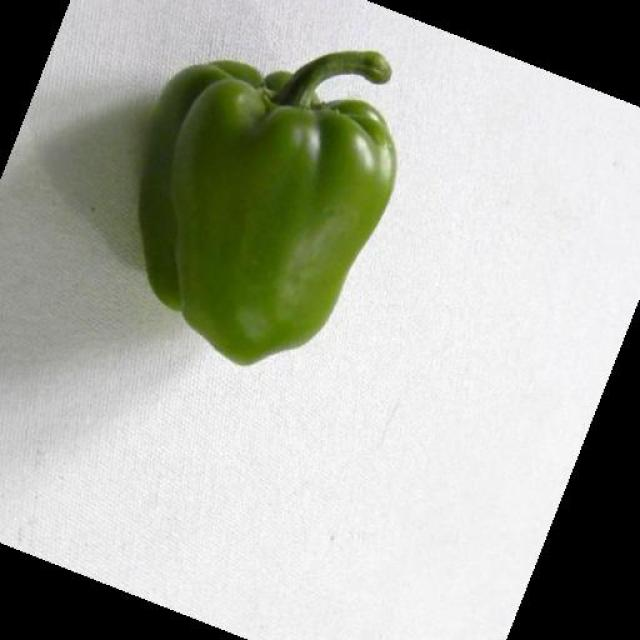Fresh_Capsicum: (149, 38, 407, 356)
